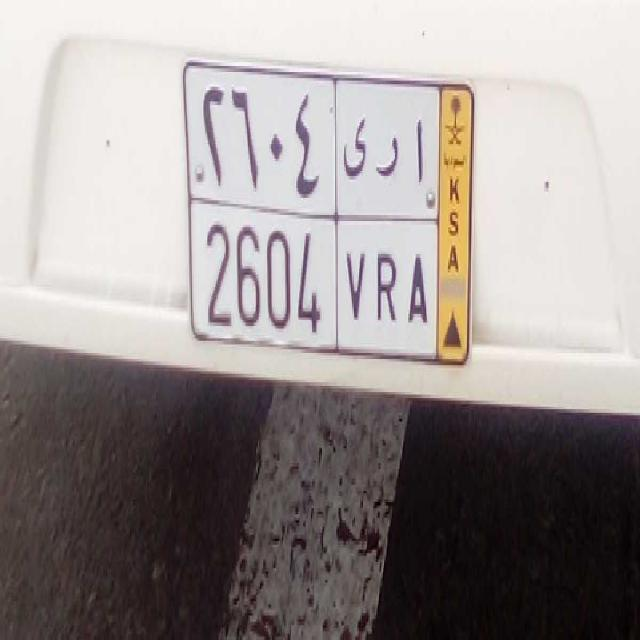license_plate: (186, 200, 436, 352)
